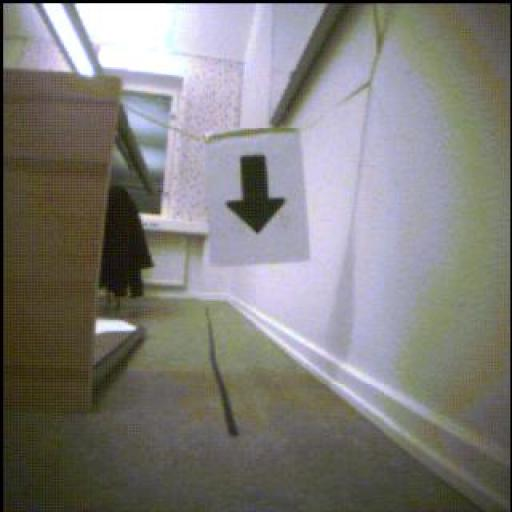arrow: (228, 156, 286, 233)
